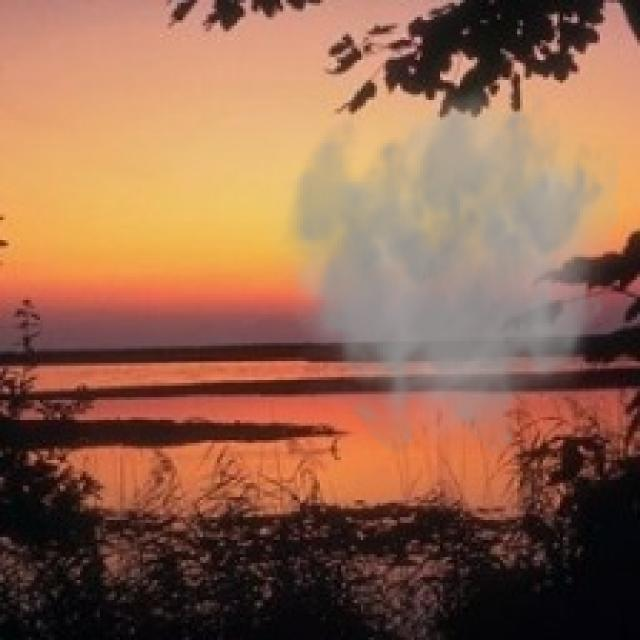smoke: (257, 80, 617, 460)
